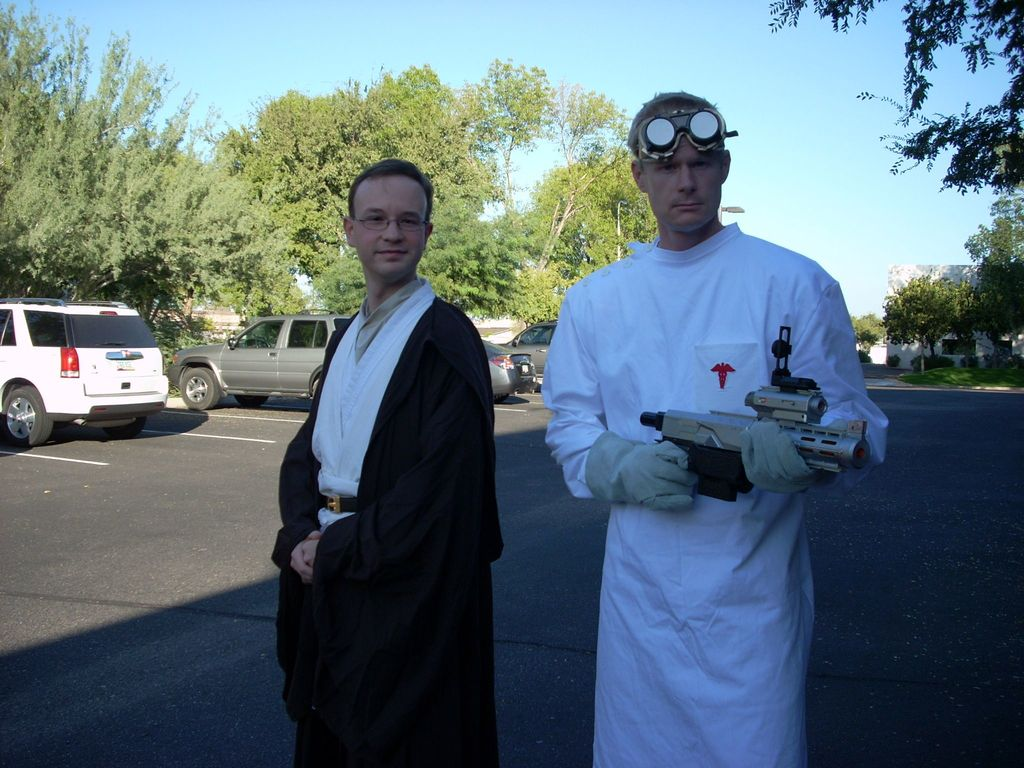Car: (4, 292, 173, 442), (170, 309, 352, 408), (483, 339, 538, 405), (508, 319, 558, 389)
